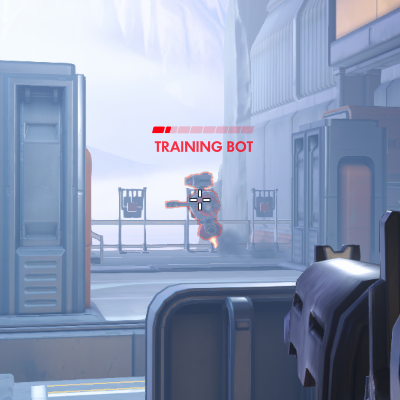hpbar: (151, 125, 254, 134)
